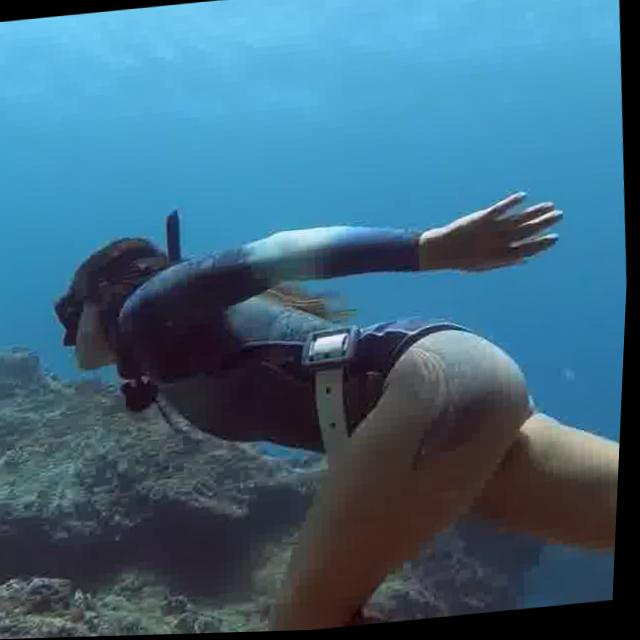human: (32, 173, 633, 639)
